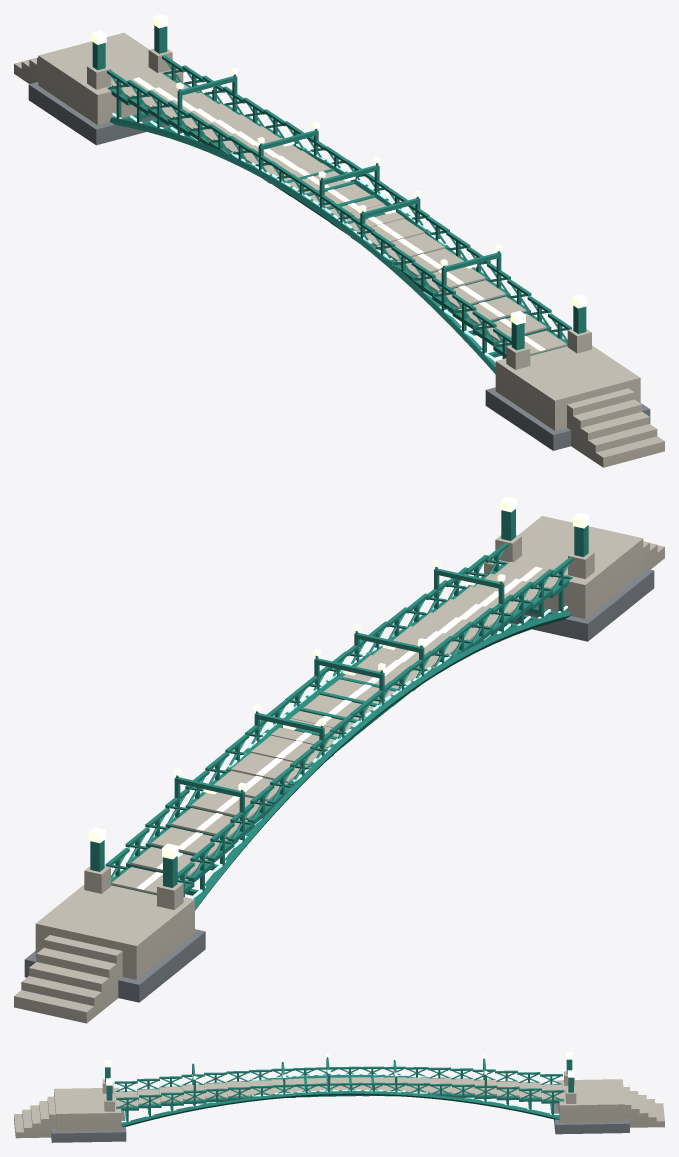
Rendered from cau_mong_heritage.glb.
The picture shows the model from 3 angles, top to bottom: view 1: azimuth 30°, elevation 25°; view 2: azimuth 150°, elevation 25°; view 3: azimuth 270°, elevation 25°; orthographic projection. The views are drawn at different scales.
Parts seen in each view (by area): view 1: cau_mong_heritage; view 2: cau_mong_heritage; view 3: cau_mong_heritage.
Boxes of the visible parts, bbox=[...] form: cau_mong_heritage: bbox=[14, 14, 664, 467]; cau_mong_heritage: bbox=[14, 496, 664, 1023]; cau_mong_heritage: bbox=[14, 1052, 664, 1142].
Bounding box in the file's own units: 19.46 × 14.5 × 140.
